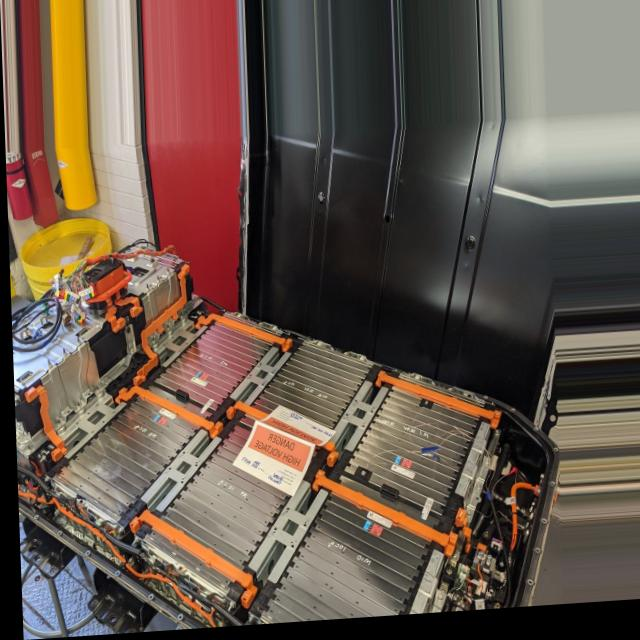Aluminum-frame: (244, 482, 324, 589), (137, 430, 218, 514), (325, 384, 386, 456), (56, 393, 122, 459), (39, 346, 96, 416), (227, 349, 289, 408), (152, 319, 205, 371), (451, 428, 487, 503), (405, 555, 439, 617), (140, 275, 179, 324)
Battery Module: (141, 427, 302, 597), (262, 500, 427, 619), (344, 377, 482, 517), (56, 400, 198, 519), (244, 344, 370, 443), (153, 329, 268, 413)
Bolt: (432, 599, 439, 608), (473, 557, 480, 565), (480, 463, 486, 471), (123, 557, 129, 565), (482, 561, 488, 568), (461, 518, 468, 523), (449, 557, 454, 564), (491, 435, 496, 442), (472, 490, 477, 496), (128, 349, 132, 356)
Bus-bar: (307, 472, 453, 562), (126, 511, 253, 610), (375, 377, 498, 433), (131, 266, 187, 384), (116, 386, 218, 438), (194, 315, 290, 357), (24, 385, 63, 463)
Cable: (15, 490, 210, 625)
Nut: (87, 385, 97, 398), (22, 442, 29, 454), (50, 418, 58, 427), (442, 570, 448, 581), (71, 403, 79, 410), (162, 326, 168, 335), (147, 338, 153, 345), (177, 312, 181, 321)
Screw: (122, 322, 128, 336)
